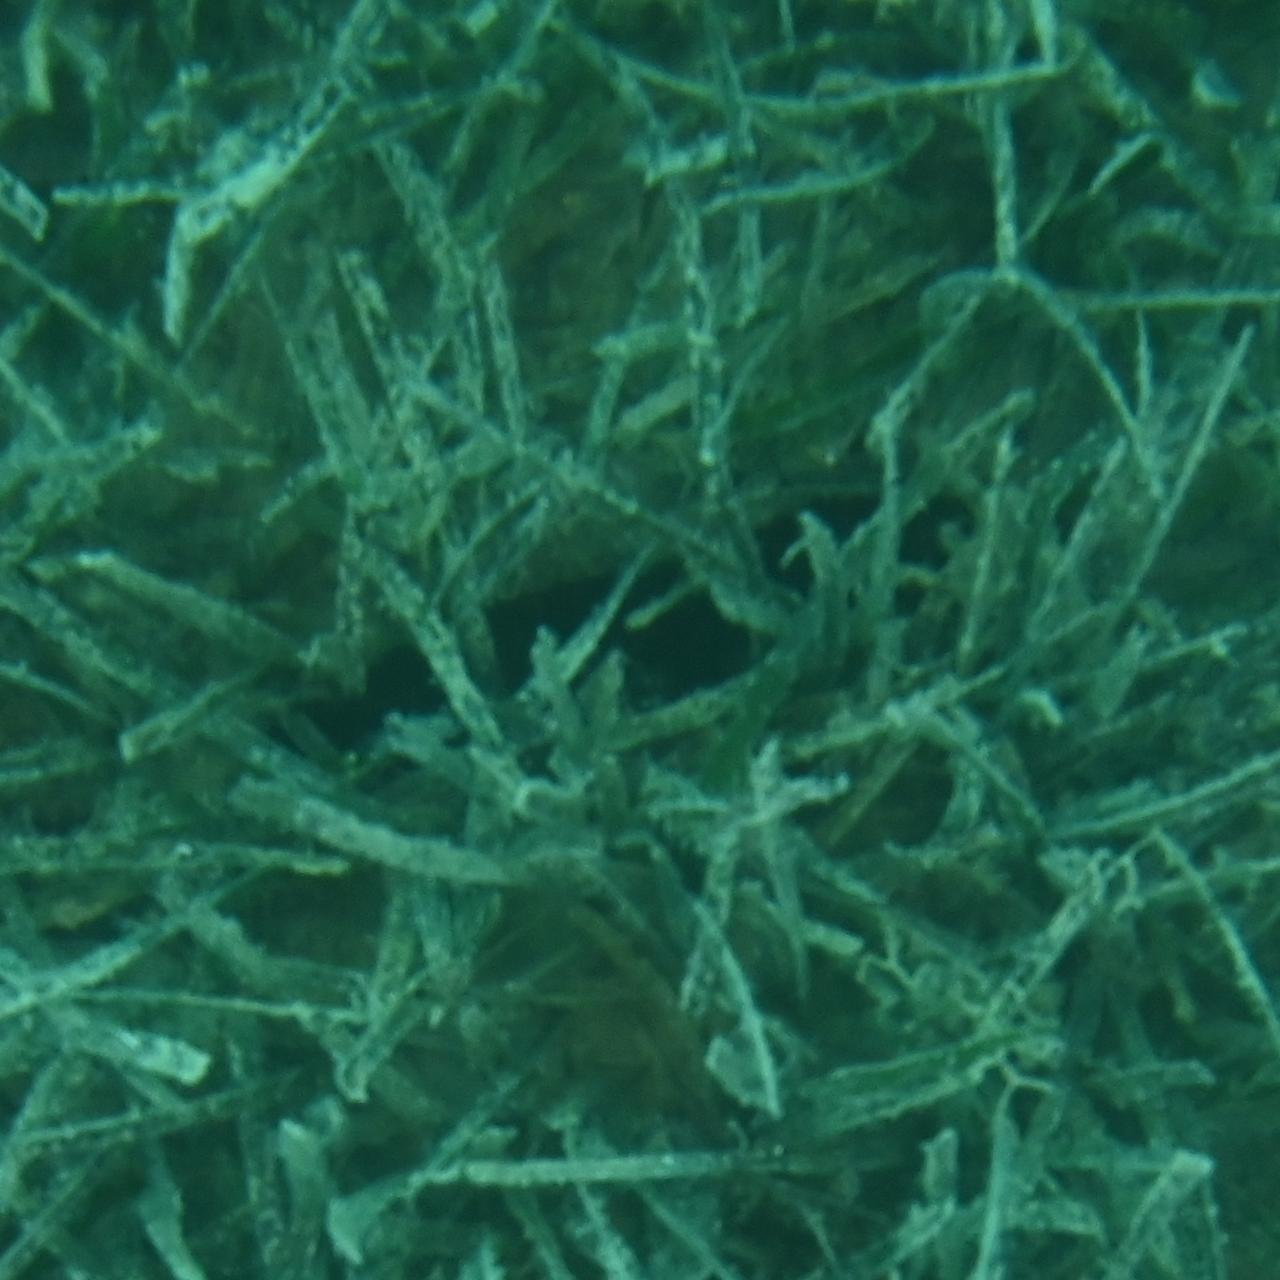Holothuria tubulosa: (276, 491, 1004, 789)
